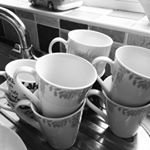cups: (11, 52, 99, 118), (12, 94, 89, 150), (92, 44, 150, 109), (47, 28, 115, 78)
